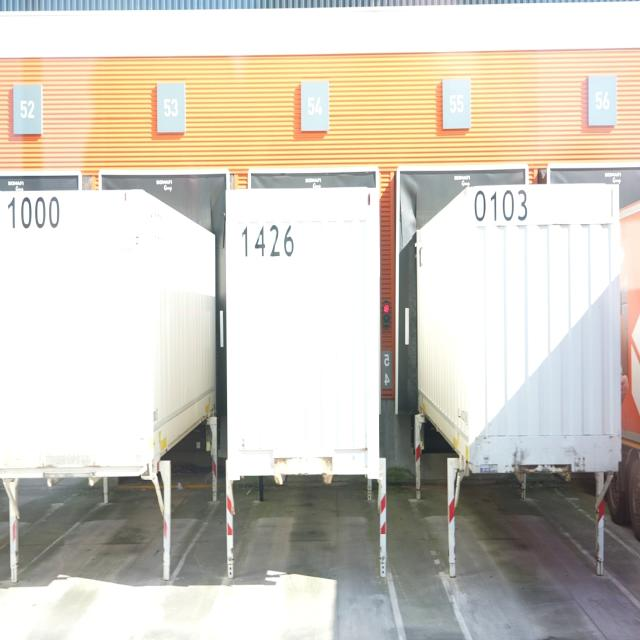Code: (240, 218, 296, 262), (4, 193, 65, 232), (471, 185, 528, 225)
